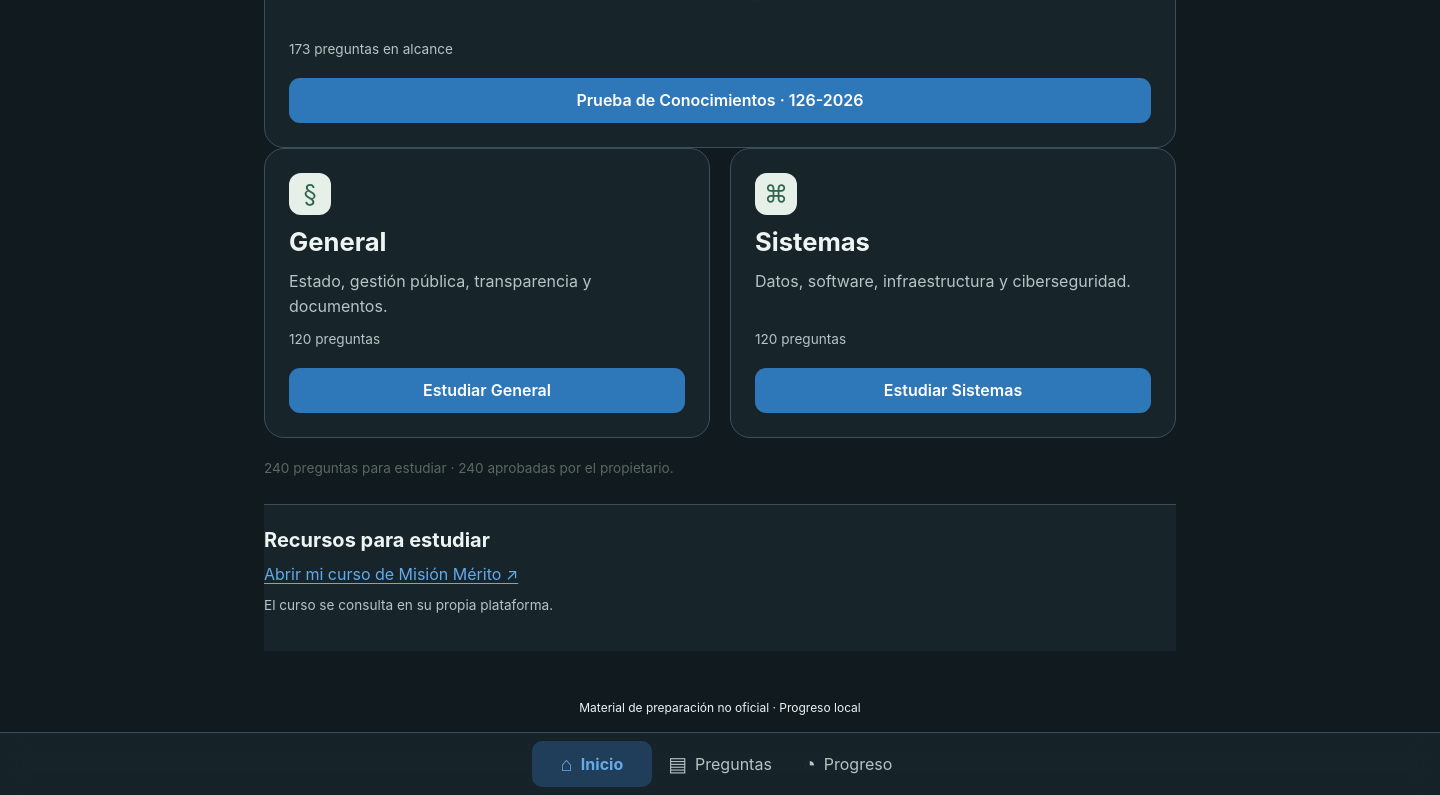
estudio y simuladores móviles › aparta las comportamentales con la nota de prueba clasificatoria
(page scrolled)
Click the button "Estudiar General": (487, 391) [289,368,685,413]
(page scrolled)
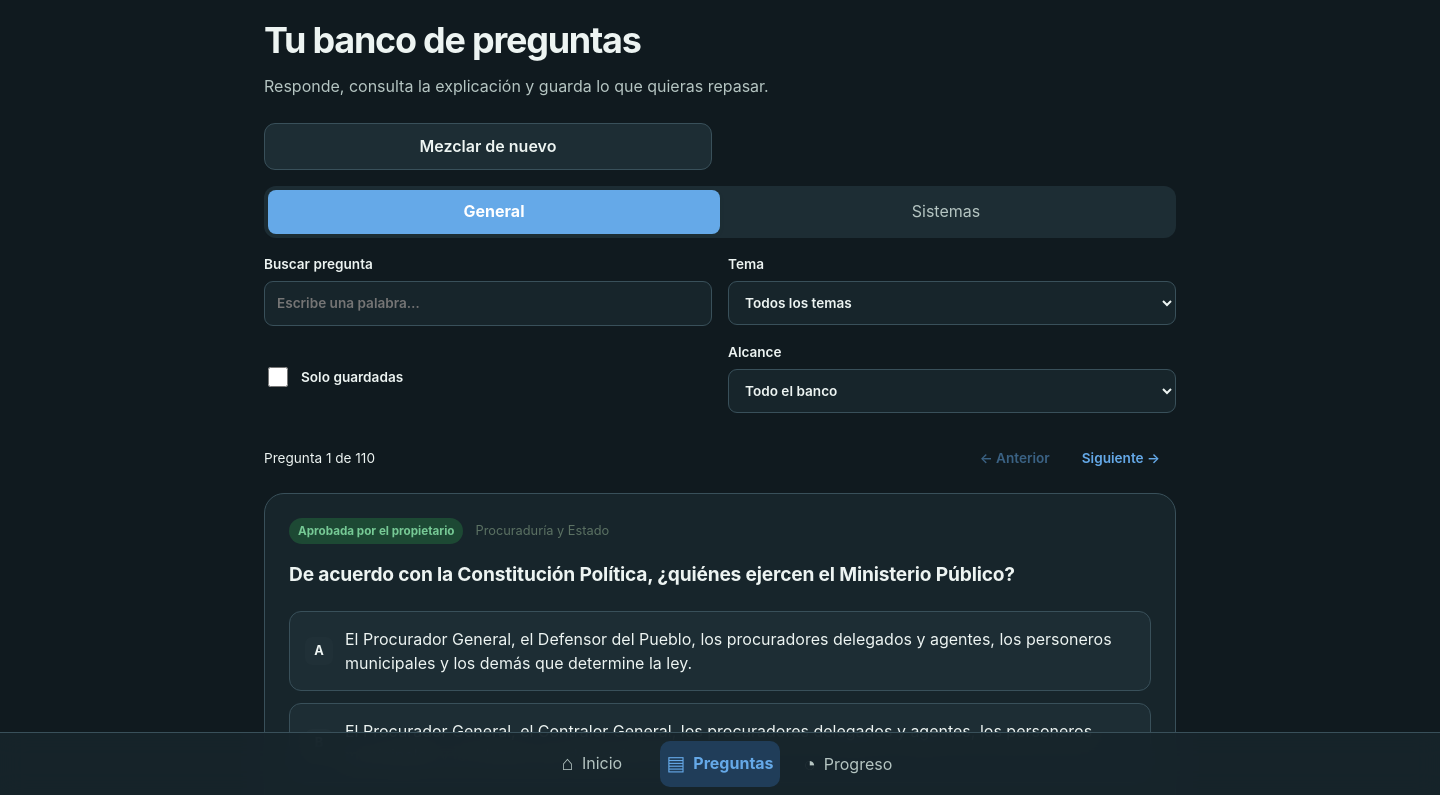
Select "Competencias comportamentales" in the dropdown labelled "Alcance": (952, 391) [728,369,1176,413]
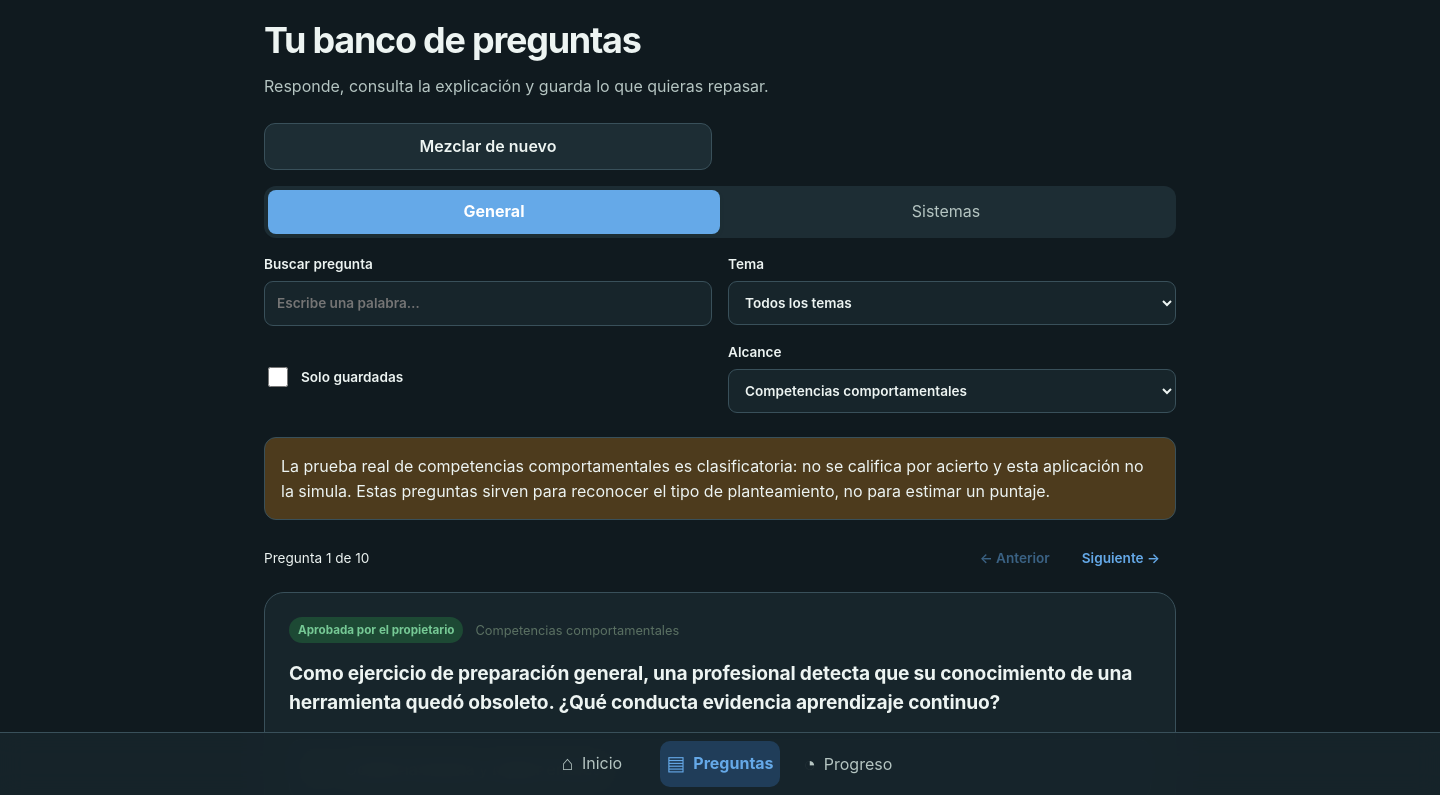
Check: the text "clasificatoria: no se califica por acierto" is shown, box [281,456,1144,501]
